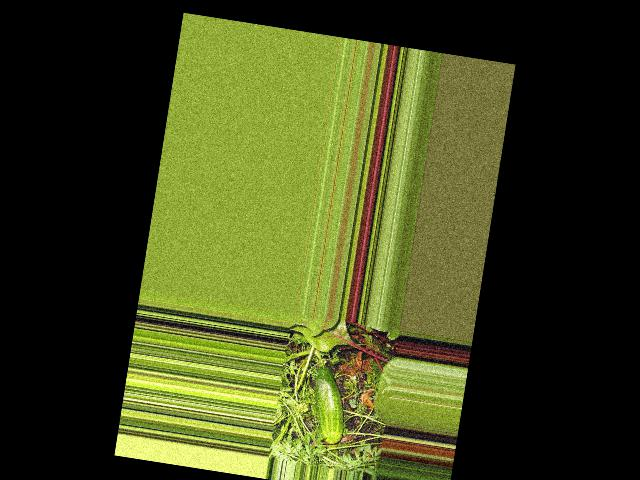cucumber: (303, 363, 352, 443)
